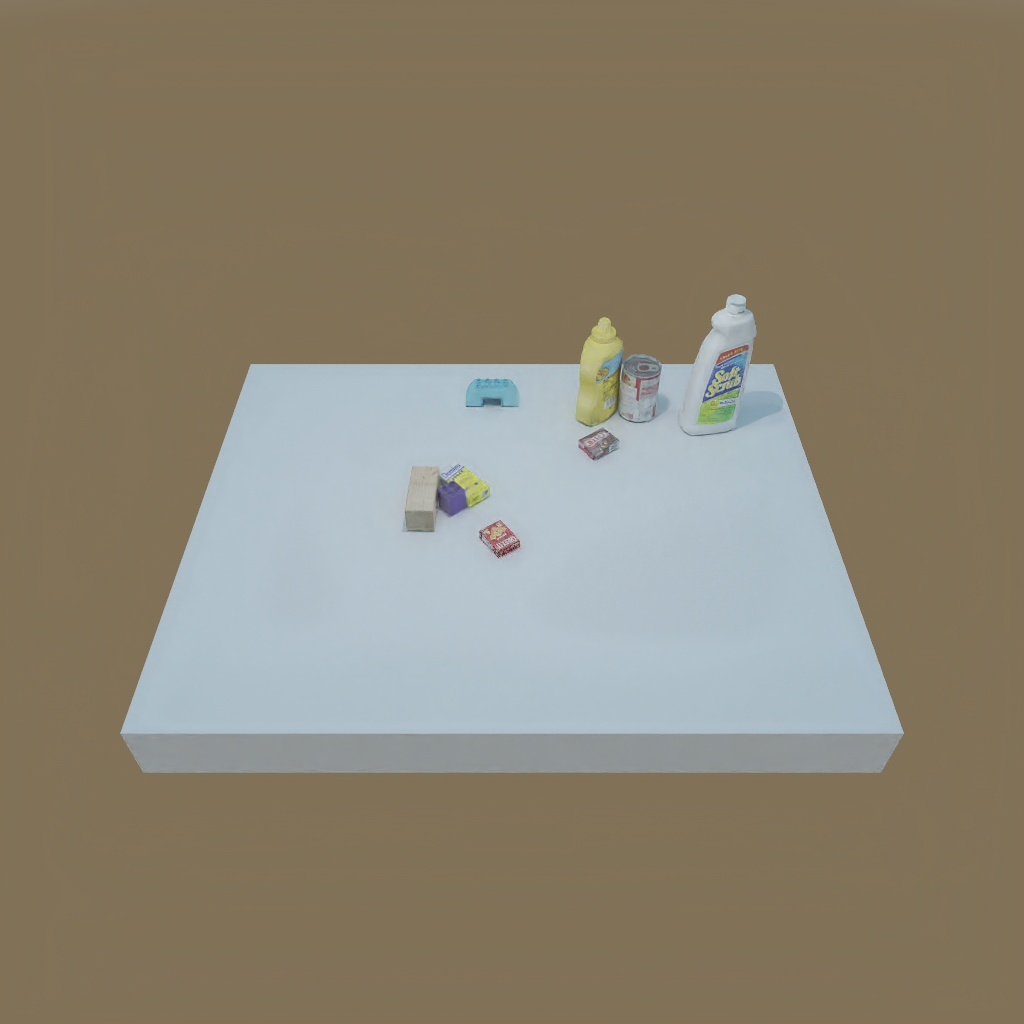mustard_bottle: (579, 309, 615, 422)
pudding_box: (575, 427, 619, 460)
tomato_soup_can: (618, 356, 662, 424)
wood_block: (405, 468, 440, 532)
